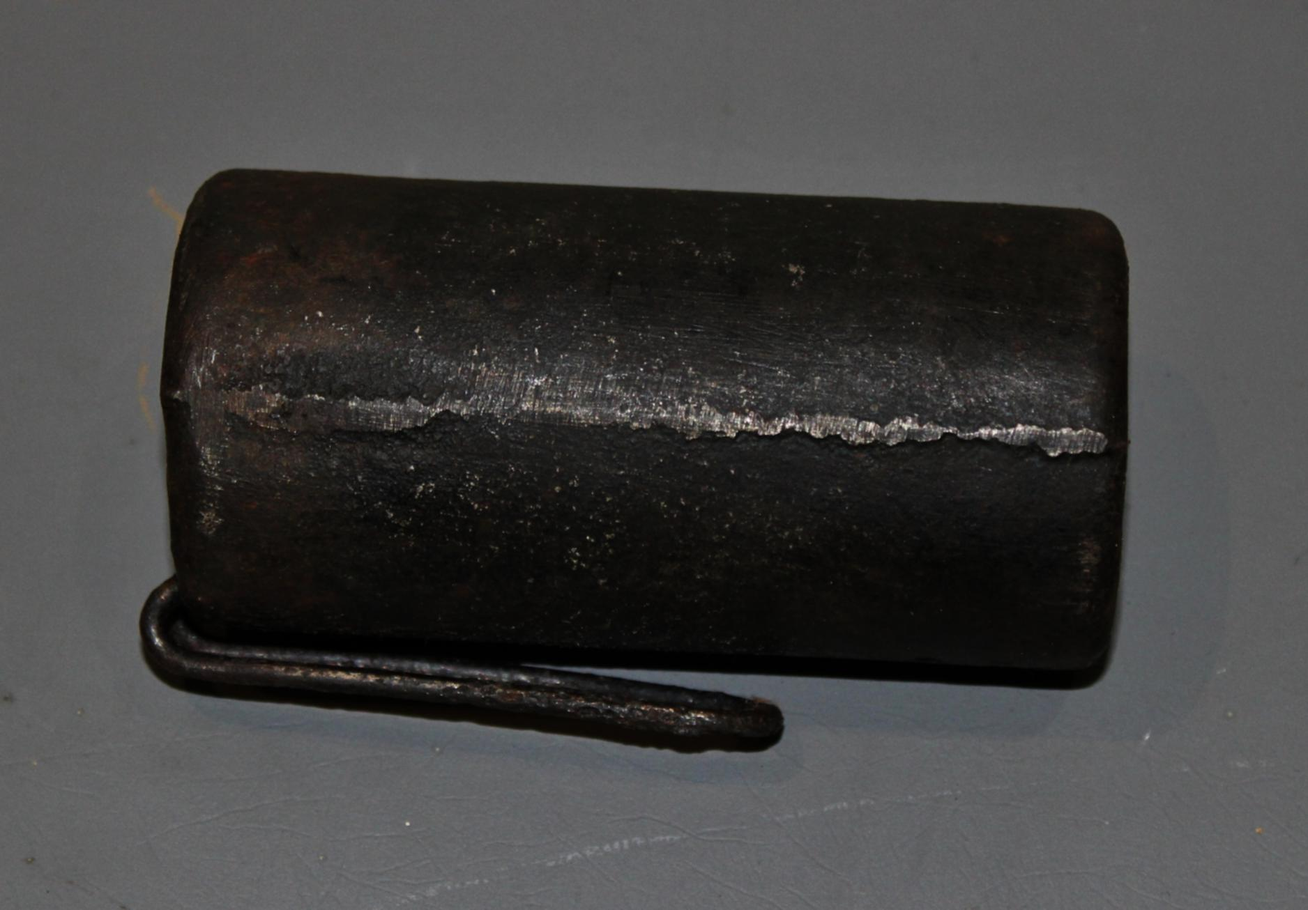Grenade: (140, 167, 1127, 752)
